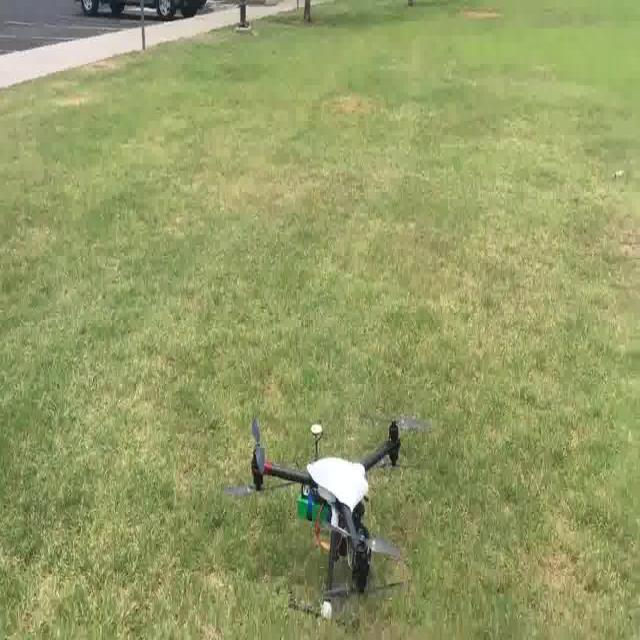Drone_FW: (222, 412, 432, 620)
